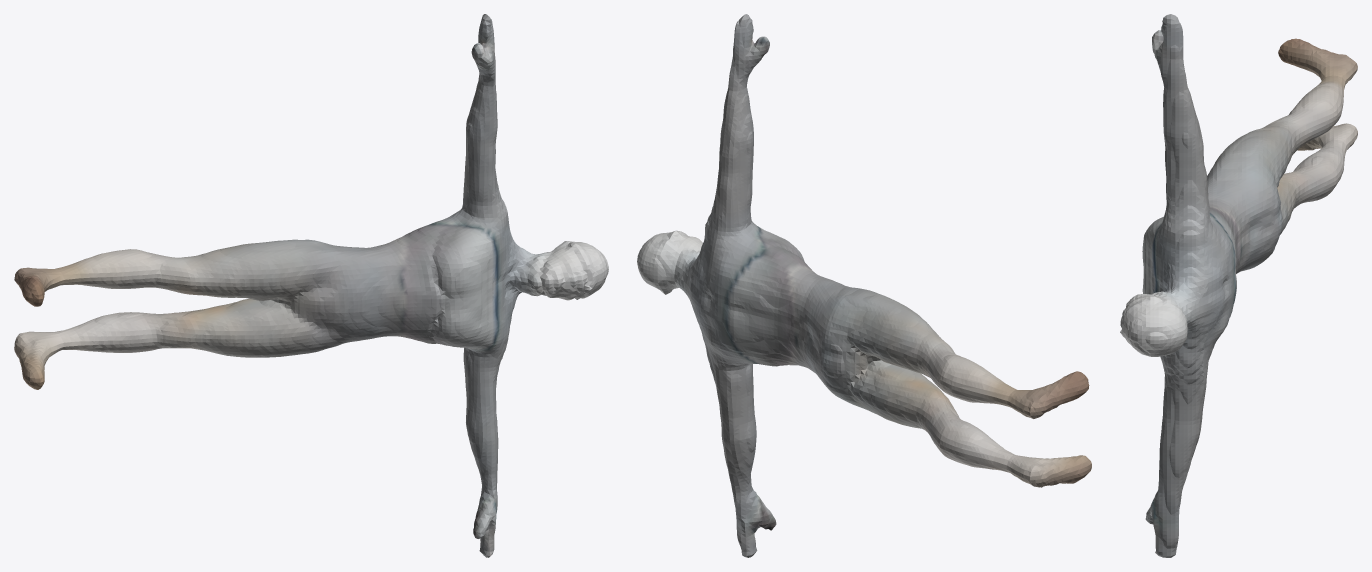
File: gen_dbd353d4.glb
3 renders of one model, left to right at view 1: azimuth 30°, elevation 25°; view 2: azimuth 150°, elevation 25°; view 3: azimuth 270°, elevation 25°, orthographic.
Visible parts, largest first — view 1: world; view 2: world; view 3: world.
Boxes of the visible parts, x1,y1,x2,y2 form: world: [14, 14, 608, 557]; world: [637, 14, 1091, 557]; world: [1120, 14, 1357, 557].
Bounding box in the file's own units: 0.974 × 0.9838 × 0.3892.
